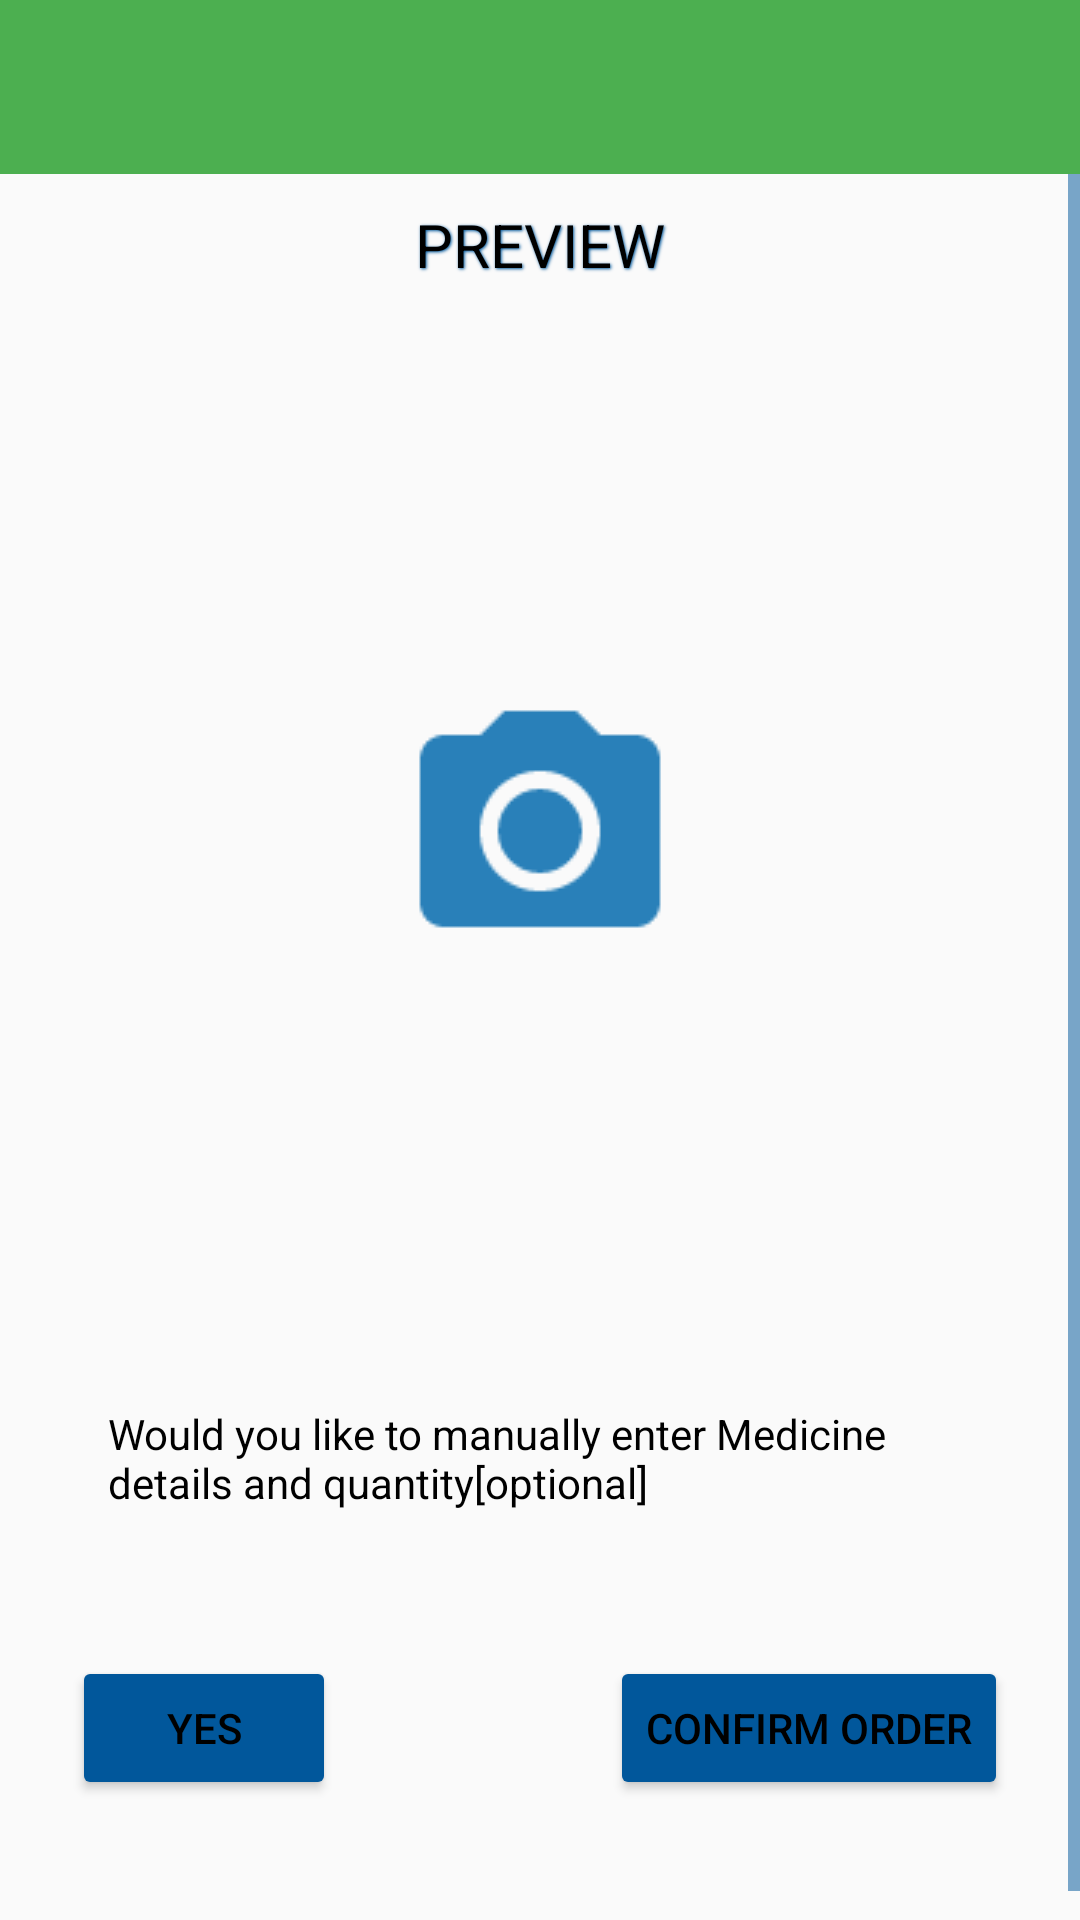

Where to tap for icons on this 1080x1920 app screen, as (x=x, y=y):
cam: (x=540, y=819)
